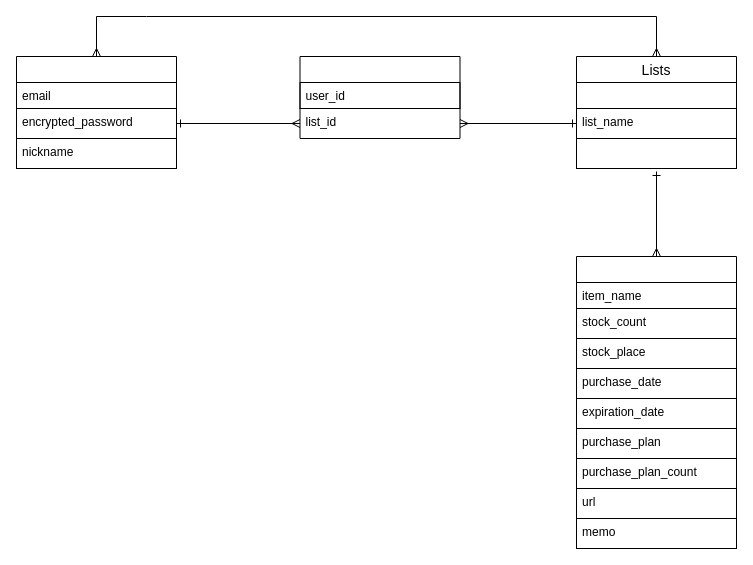
Some shapes in this 753 by 565 pixel diagram are drawn without their labels. The box of each missing label's shape, as (x1, y1, x2, y2) in pixels:
Items: (576, 256, 736, 368)
list_password: (576, 138, 736, 168)
selected_icon: (576, 82, 736, 108)
User_lists: (299, 56, 460, 138)
Users: (16, 56, 176, 168)
